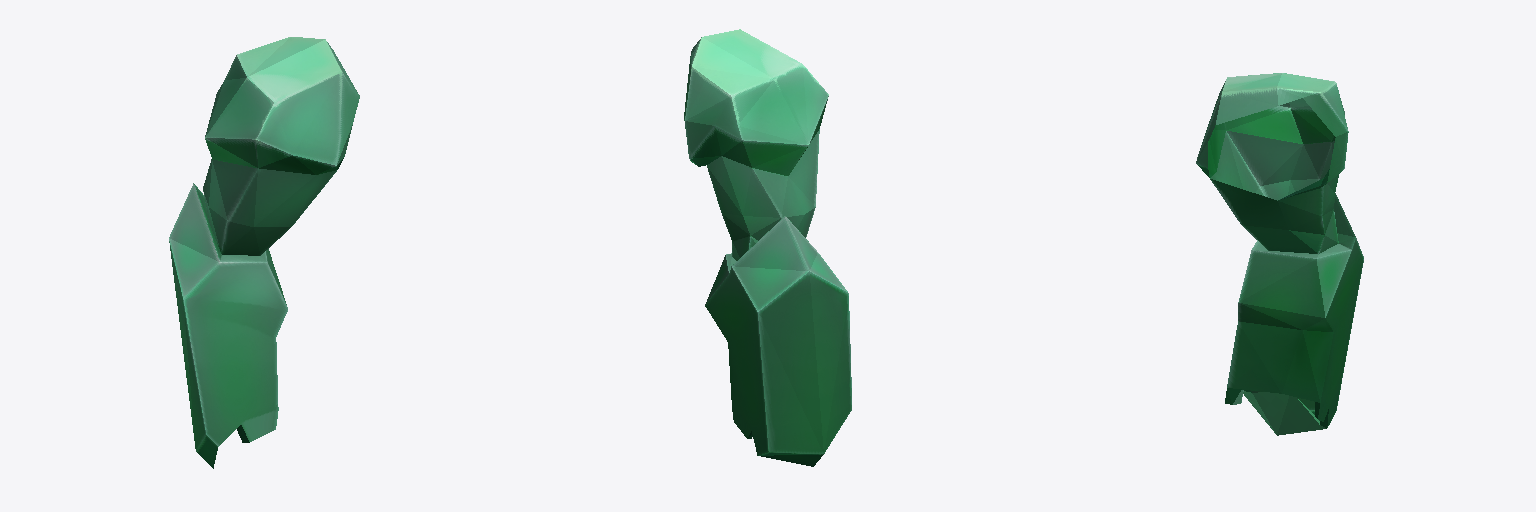
3 views of the same model, side by side, from view 1: azimuth 30°, elevation 25°; view 2: azimuth 150°, elevation 25°; view 3: azimuth 270°, elevation 25° (orthographic).
Visible parts, largest first — view 1: BrazoIzq; view 2: BrazoIzq; view 3: BrazoIzq.
Boxes of the visible parts, box(x1,y1,x2,y2) form: BrazoIzq: box(169, 37, 359, 468); BrazoIzq: box(684, 29, 851, 466); BrazoIzq: box(1196, 73, 1363, 435).
Bounding box in the file's own units: 2.23 × 5.58 × 2.12.
1 materials, 1 textured.